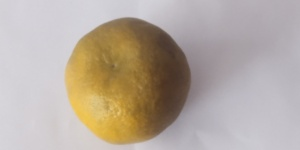BAD: (65, 17, 191, 145)
